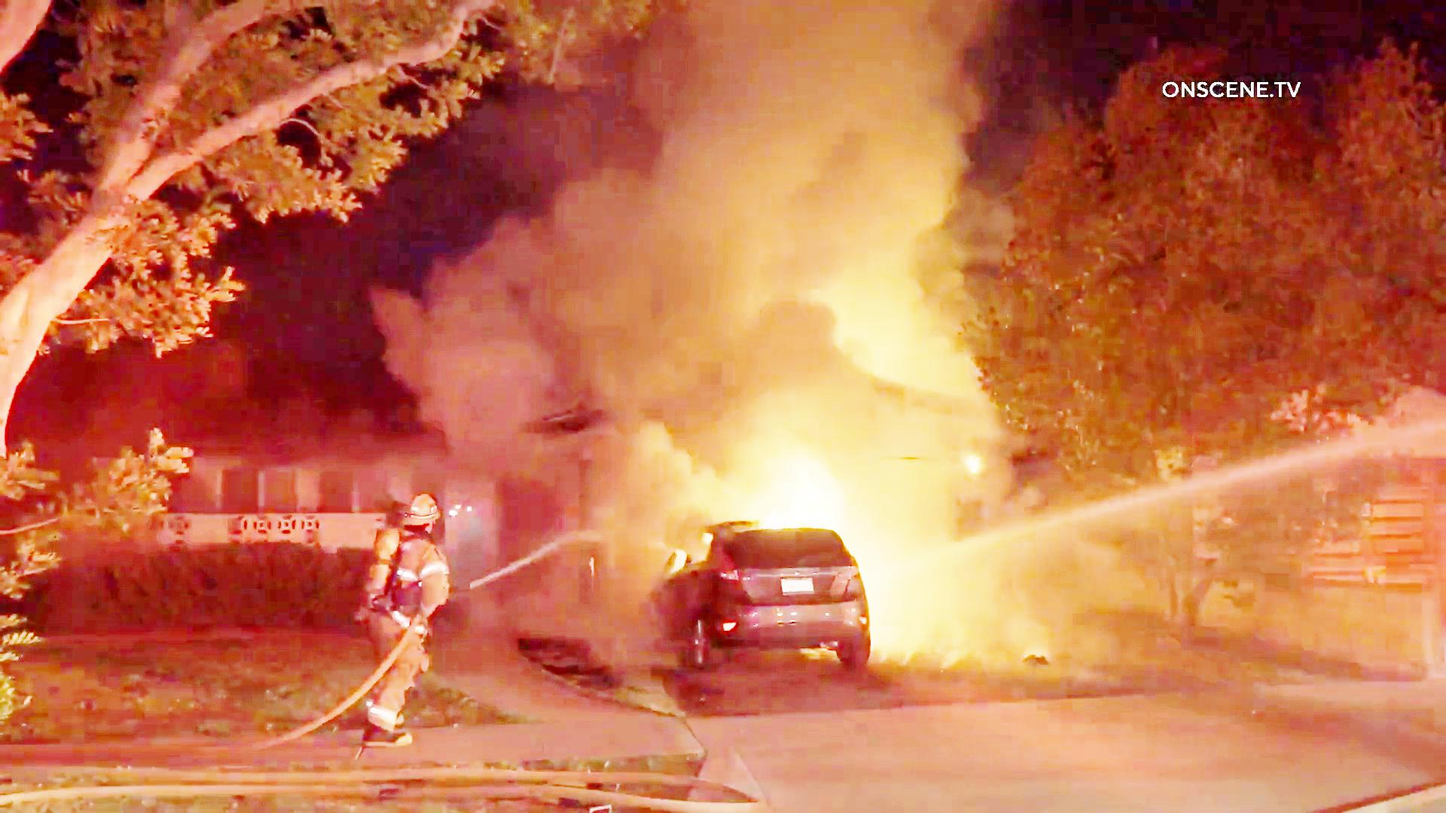fire: (757, 477, 865, 526)
smoke: (573, 0, 1001, 266), (418, 275, 953, 438), (531, 456, 673, 666), (859, 539, 1034, 663), (882, 450, 1008, 538)
